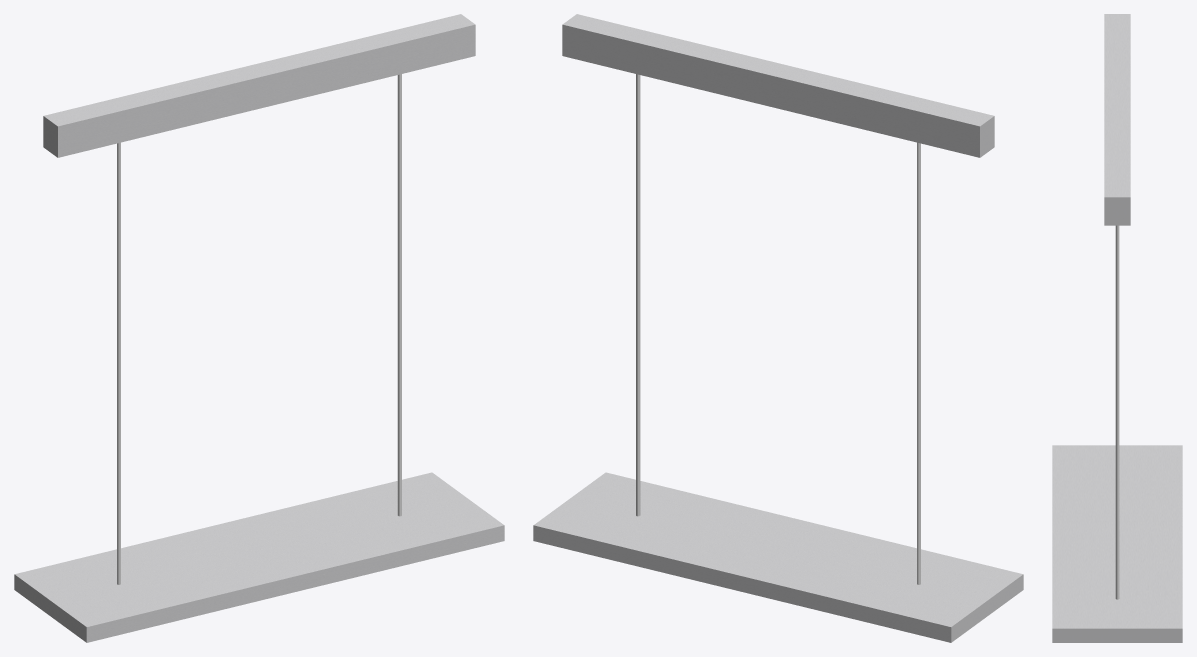
Rendered from office-hanging-light.glb.
3 renders of one model, left to right at view 1: azimuth 30°, elevation 25°; view 2: azimuth 150°, elevation 25°; view 3: azimuth 270°, elevation 25°, orthographic. The views are drawn at different scales.
Parts seen in each view (by area): view 1: Cube; view 2: Cube; view 3: Cube.
Part boxes in pixels (x1=…): Cube: x1=14, y1=14, x2=504, y2=642; Cube: x1=533, y1=14, x2=1023, y2=642; Cube: x1=1052, y1=14, x2=1182, y2=642.
Bounding box in the file's own units: 1.19 × 1.35 × 0.357.
Materials: 3 (1 with a texture image).
